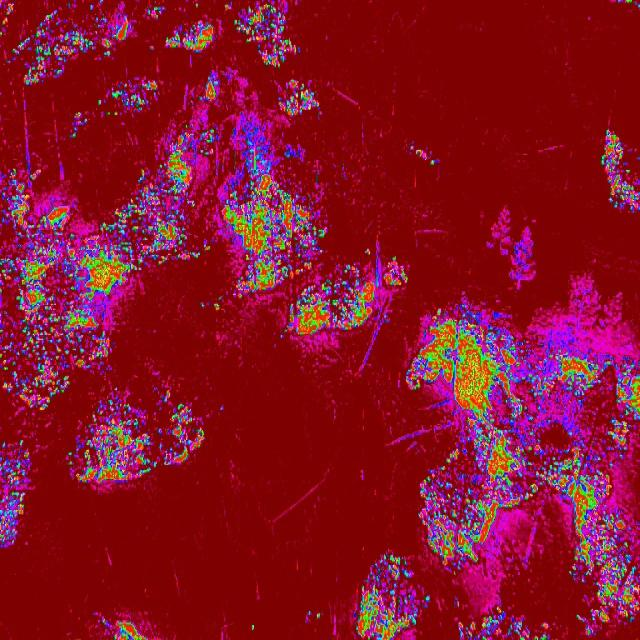fire: (569, 342, 640, 640), (419, 418, 538, 568), (220, 133, 324, 297), (1, 162, 65, 408), (406, 312, 524, 417), (65, 197, 118, 371), (119, 169, 204, 276), (67, 397, 152, 488), (0, 0, 77, 85), (353, 551, 417, 640), (233, 0, 297, 68), (152, 390, 205, 470), (599, 126, 640, 212), (323, 258, 411, 298), (524, 342, 569, 416), (282, 298, 374, 334), (0, 440, 29, 549), (77, 1, 130, 56), (162, 124, 218, 166), (456, 615, 550, 640), (164, 19, 218, 55), (276, 80, 320, 118), (110, 78, 156, 114), (94, 612, 150, 640), (539, 448, 567, 496), (194, 70, 220, 104), (408, 142, 438, 166), (70, 110, 90, 140), (609, 0, 640, 10), (146, 4, 165, 18), (222, 0, 232, 15), (494, 602, 506, 614), (422, 592, 430, 609), (199, 300, 210, 310), (212, 302, 221, 314), (203, 240, 210, 254), (362, 248, 373, 256), (64, 375, 70, 389), (315, 612, 321, 623), (96, 98, 104, 106), (250, 625, 256, 633)
